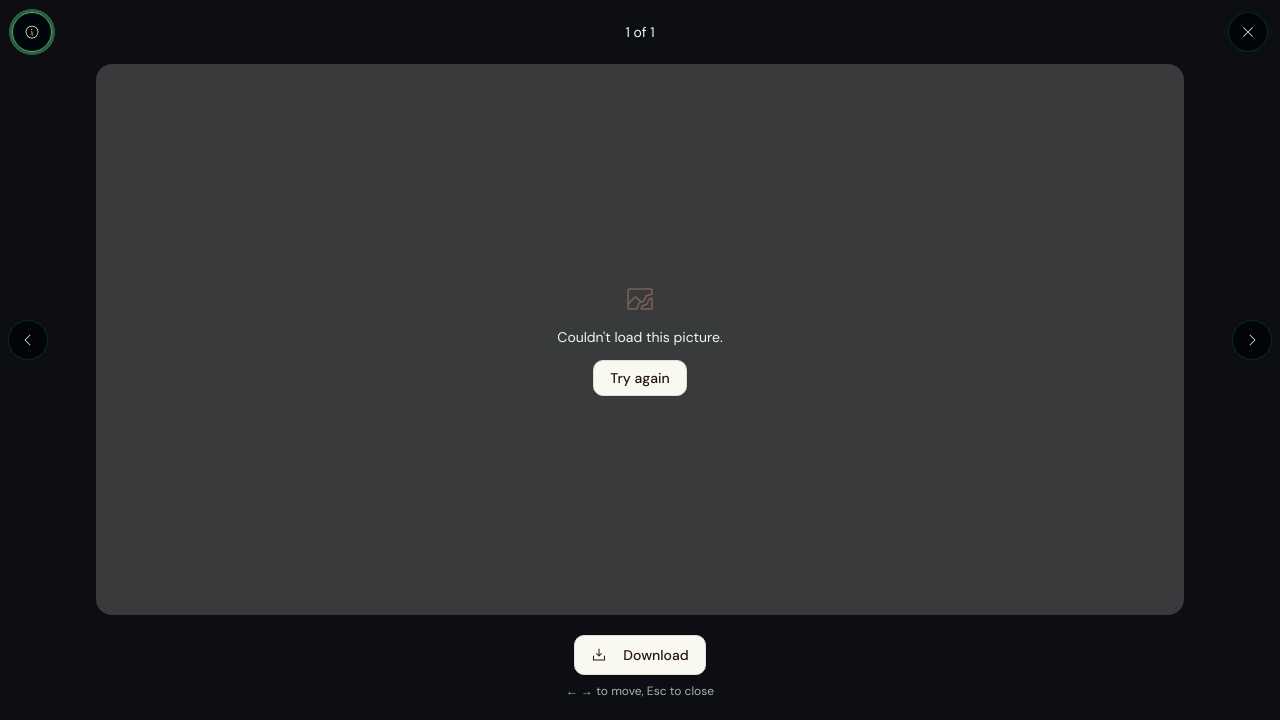
Scenario: LibraryViewer › a picture that fails to load shows the panel, and Try again asks again (ux Retryable error)
Check: the text "Couldn't load this picture." is shown, box [557, 328, 723, 348]
Click the button "Try again": [640, 378] box [593, 360, 687, 396]
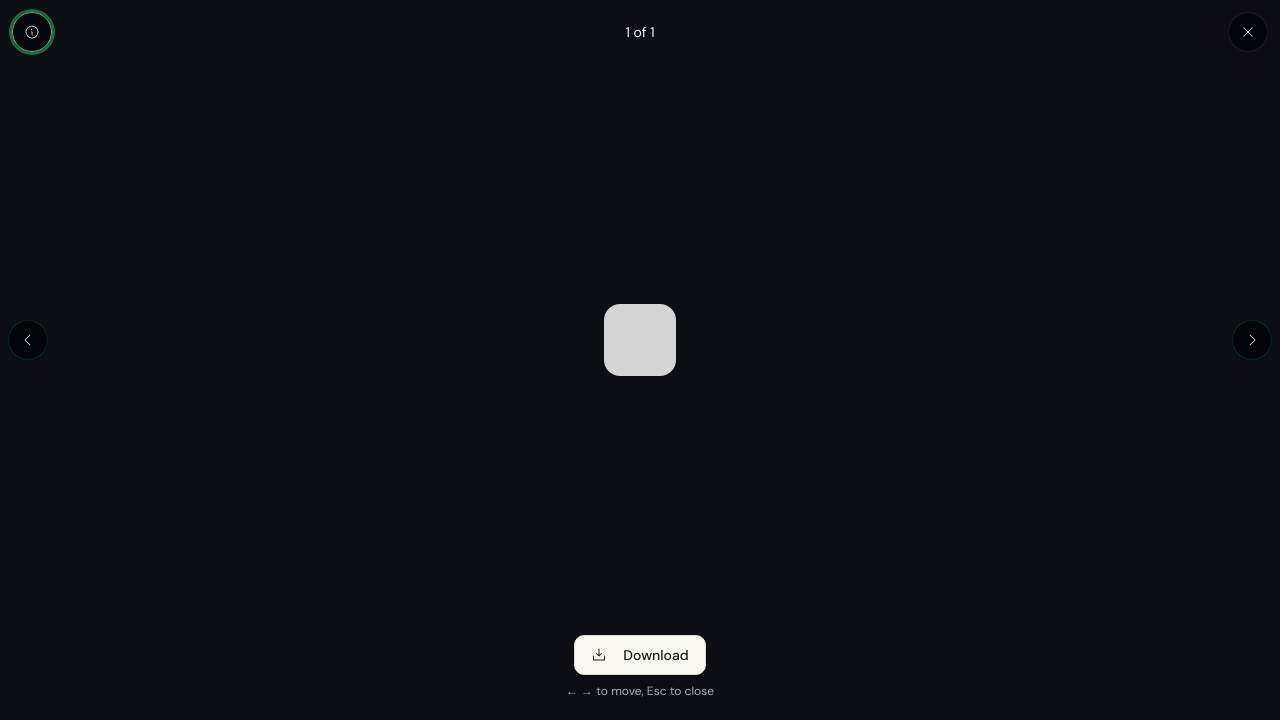
Check: the text "Couldn't load this picture." is gone
